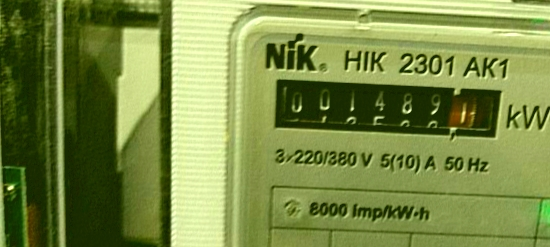0: (315, 86, 332, 112), (288, 89, 304, 115)
1: (344, 86, 359, 115), (456, 96, 469, 126)
4: (371, 88, 388, 114)
8: (397, 89, 415, 116)
9: (426, 92, 442, 117)
screen: (258, 68, 516, 152)
